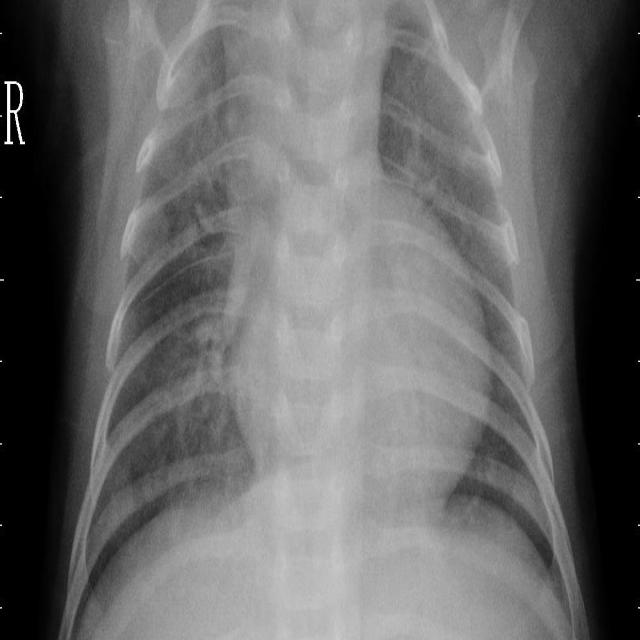low-pneumonia: (152, 40, 227, 245), (160, 282, 230, 449), (401, 68, 472, 210)
